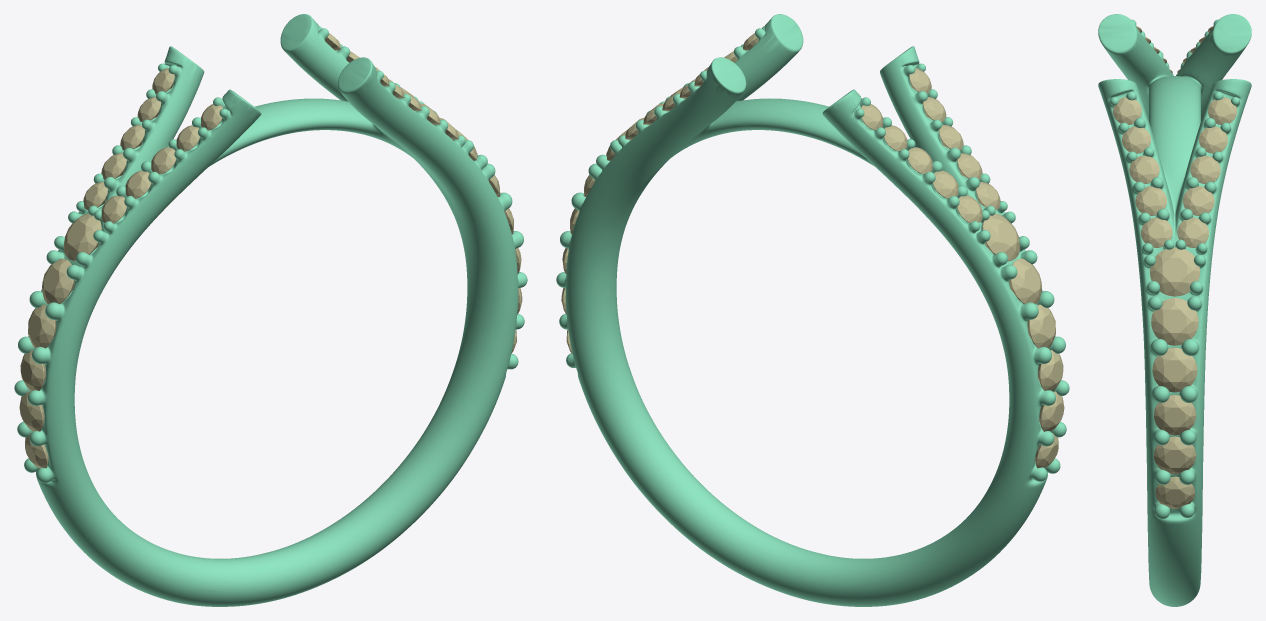
The picture shows the model from 3 angles, left to right: view 1: azimuth 30°, elevation 25°; view 2: azimuth 150°, elevation 25°; view 3: azimuth 270°, elevation 25°; orthographic projection.
Parts seen in each view (by area): view 1: Metal02, Diamond_Gem.020, Diamond_Gem.021, Diamond_Gem.019, Diamond_Gem.017; view 2: Metal02, Diamond_Gem.020, Diamond_Gem.021, Diamond_Gem.019, Diamond_Gem.017; view 3: Metal02, Diamond_Gem.011, Diamond_Gem.010, Diamond_Gem.012, Diamond_Gem.014, Diamond_Gem.013, Diamond_Gem.015, Diamond_Gem, Diamond_Gem.003, Diamond_Gem.001, Diamond_Gem.002, Diamond_Gem.008 (+5 smaller).
Boxes of the visible parts, x1=… form: Metal02: x1=14, y1=14, x2=527, y2=606; Diamond_Gem.020: x1=63, y1=213, x2=101, y2=261; Diamond_Gem.021: x1=42, y1=258, x2=74, y2=304; Diamond_Gem.019: x1=28, y1=304, x2=56, y2=348; Diamond_Gem.017: x1=20, y1=350, x2=45, y2=391; Metal02: x1=556, y1=14, x2=1069, y2=606; Diamond_Gem.020: x1=982, y1=213, x2=1020, y2=261; Diamond_Gem.021: x1=1009, y1=258, x2=1041, y2=304; Diamond_Gem.019: x1=1027, y1=304, x2=1055, y2=348; Diamond_Gem.017: x1=1038, y1=350, x2=1063, y2=391; Metal02: x1=1098, y1=14, x2=1251, y2=606; Diamond_Gem.011: x1=1150, y1=247, x2=1199, y2=296; Diamond_Gem.010: x1=1151, y1=298, x2=1198, y2=345; Diamond_Gem.012: x1=1152, y1=347, x2=1197, y2=392; Diamond_Gem.014: x1=1154, y1=395, x2=1195, y2=435; Diamond_Gem.013: x1=1154, y1=436, x2=1196, y2=474; Diamond_Gem.015: x1=1155, y1=476, x2=1194, y2=508; Diamond_Gem: x1=1177, y1=217, x2=1208, y2=247; Diamond_Gem.003: x1=1141, y1=217, x2=1172, y2=247; Diamond_Gem.001: x1=1183, y1=186, x2=1214, y2=215; Diamond_Gem.002: x1=1135, y1=186, x2=1166, y2=215; Diamond_Gem.008: x1=1129, y1=155, x2=1159, y2=183.
Size of the model in its own units: 21.34 by 22.31 by 5.81.
